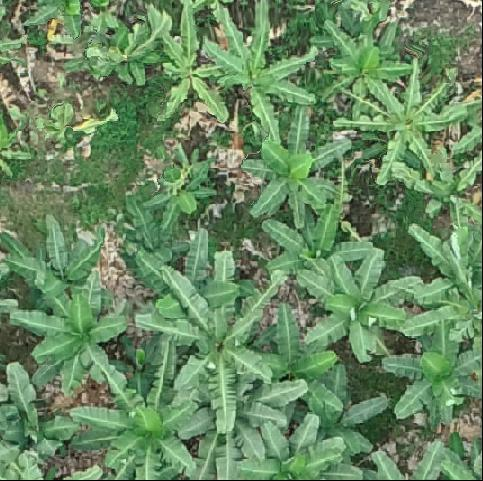Banana-plant: (146, 269, 291, 423), (336, 61, 457, 177), (234, 111, 355, 221), (69, 370, 193, 475), (207, 7, 314, 124), (6, 290, 135, 387), (300, 255, 417, 357), (376, 318, 483, 425), (250, 201, 381, 275), (6, 217, 106, 306), (317, 17, 406, 107), (155, 15, 223, 120), (250, 418, 361, 481), (142, 150, 219, 231)
